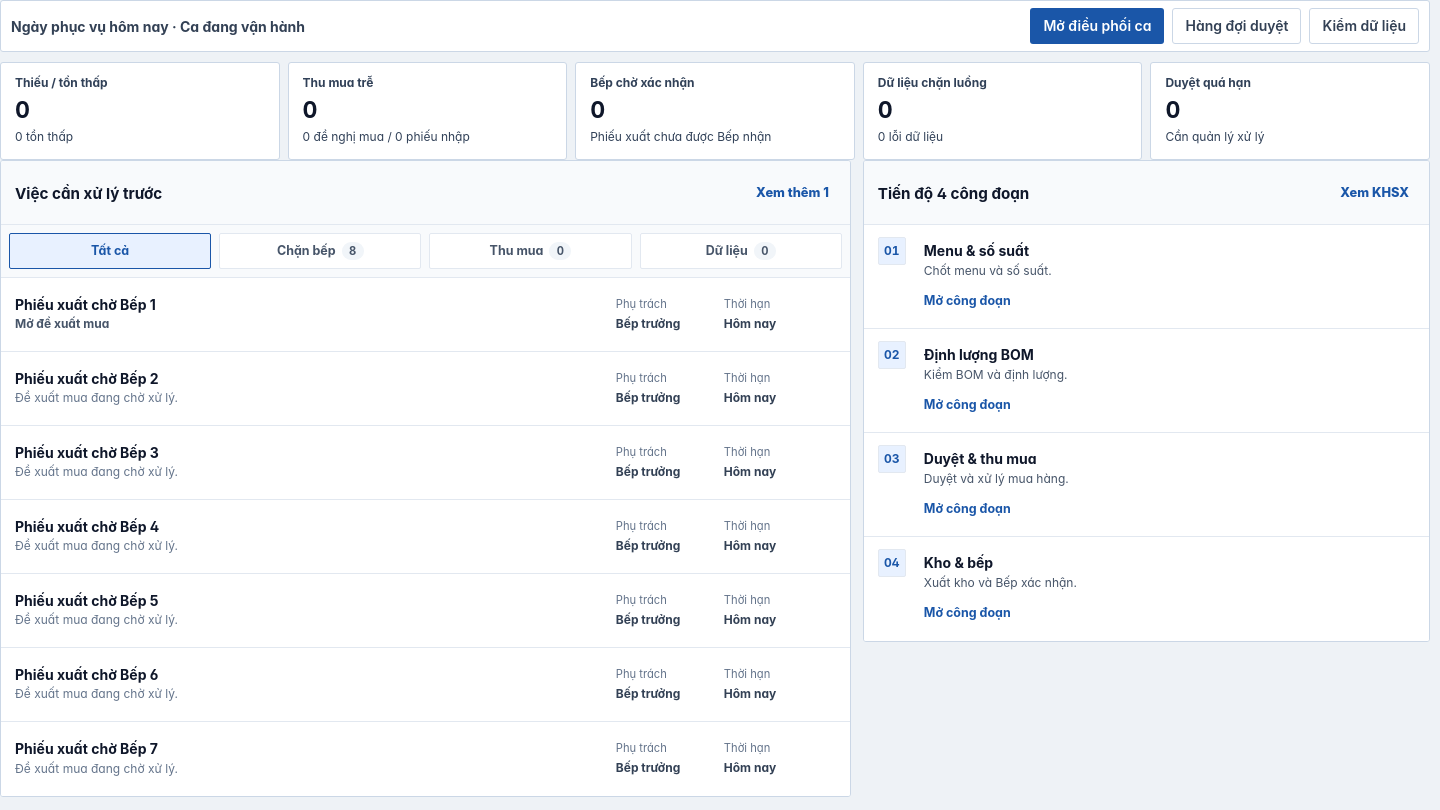
Scenario: DashboardPage query state boundary › expands the active local filter instead of sending users to the approval route
Click the button "Chặn bếp 8".
click(320, 251)  # box [219,233,421,269]
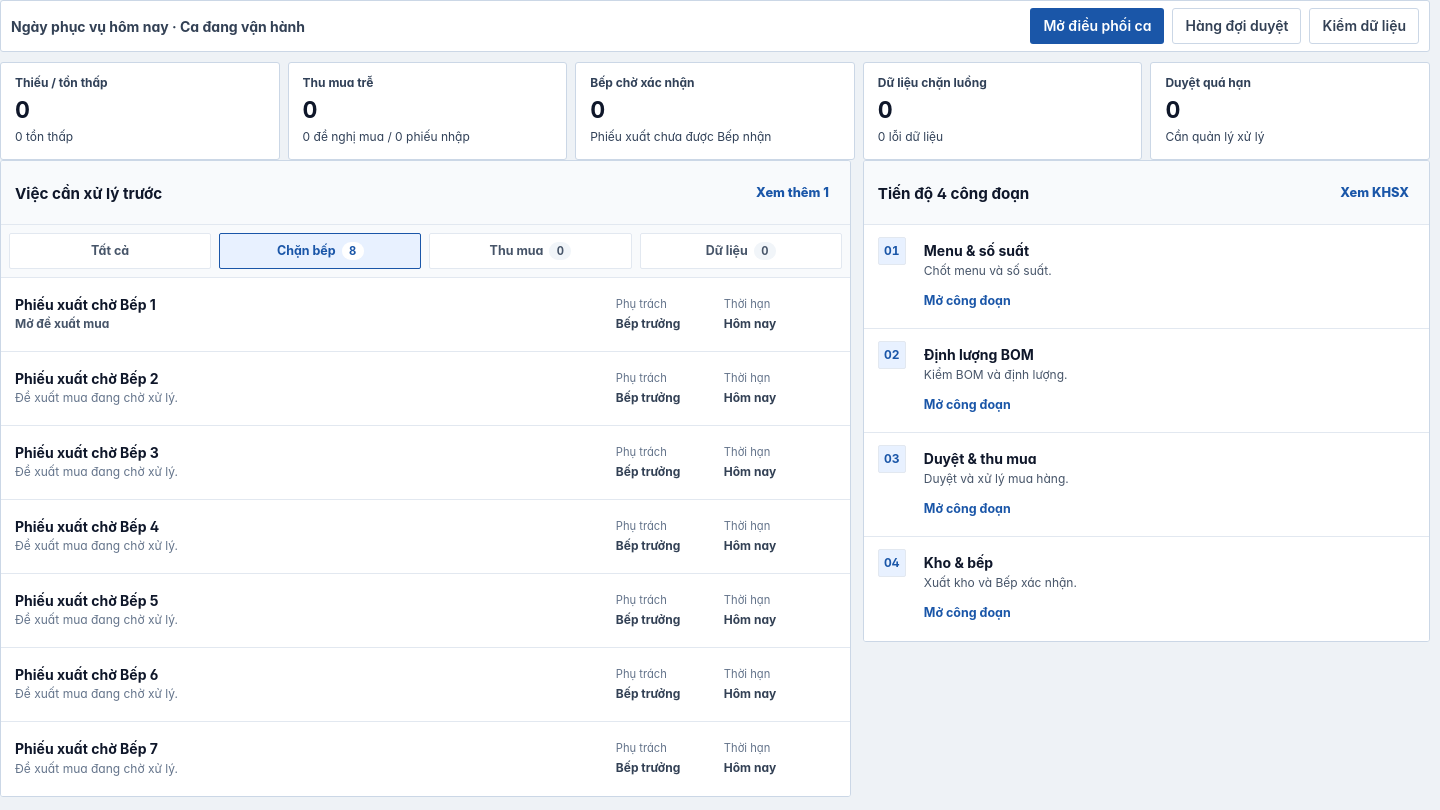
Click the button "Xem thêm 1".
click(792, 192)  # box [749,174,836,210]
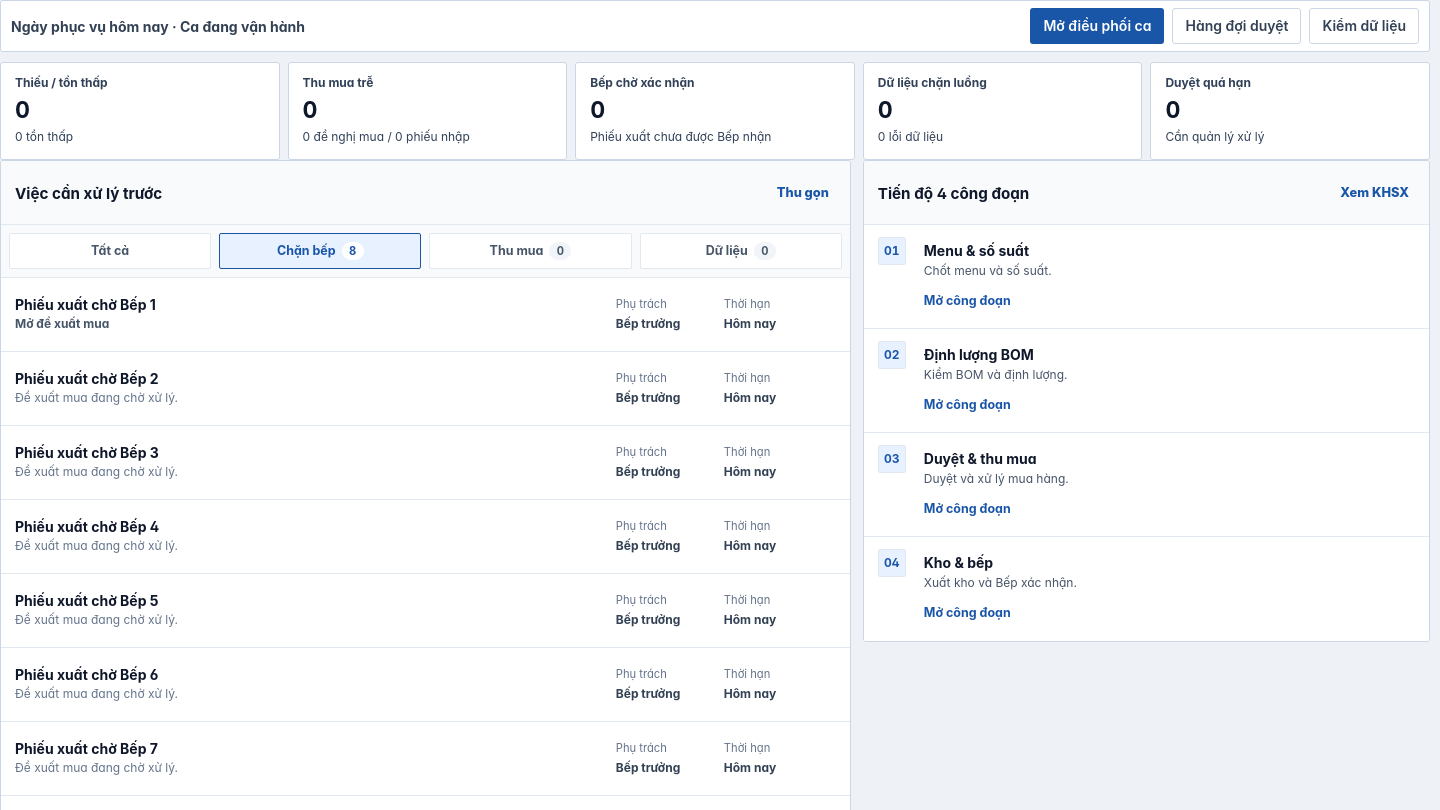
Check: the button "Thu gọn" is shown, box [770,174,836,210]
